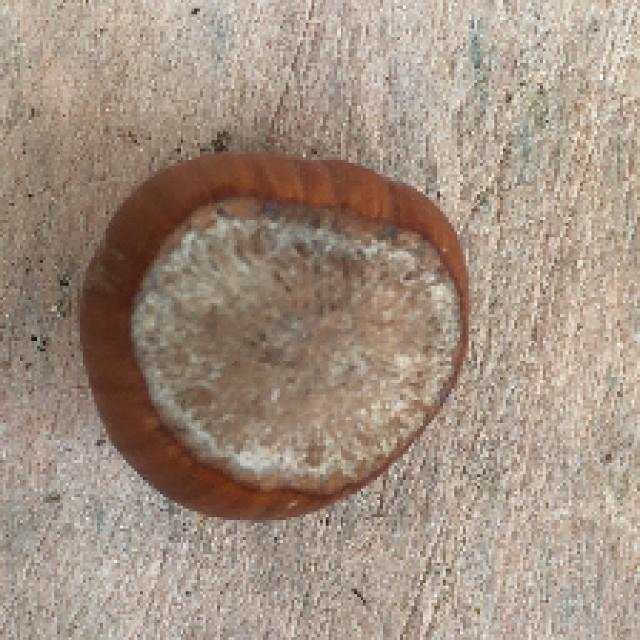qualityHazelnut: (74, 146, 473, 522)
